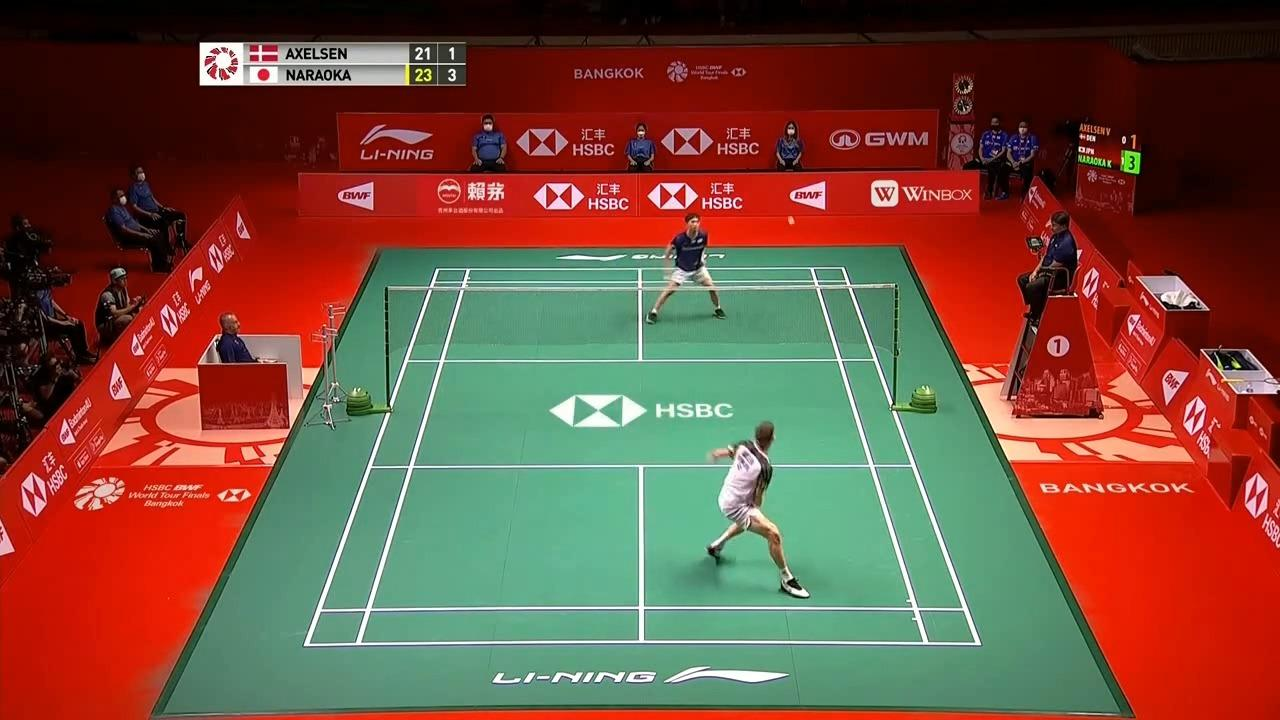shuttle: (785, 211, 798, 230)
